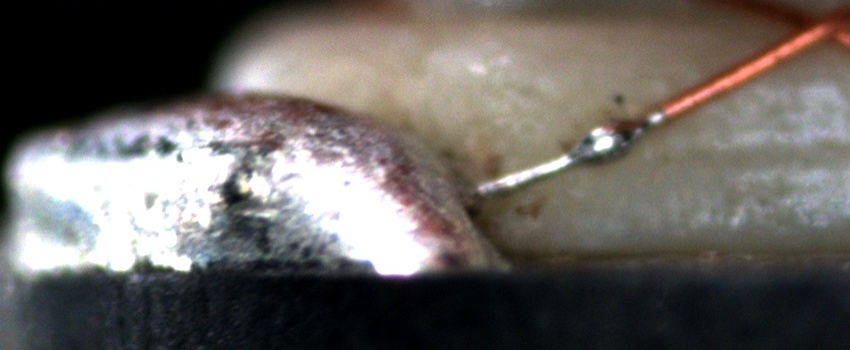CL: (770, 3, 843, 57)
DL: (621, 125, 850, 189)
TB: (567, 113, 647, 176)
TS: (476, 106, 666, 198)
TTCW: (477, 89, 686, 203)
